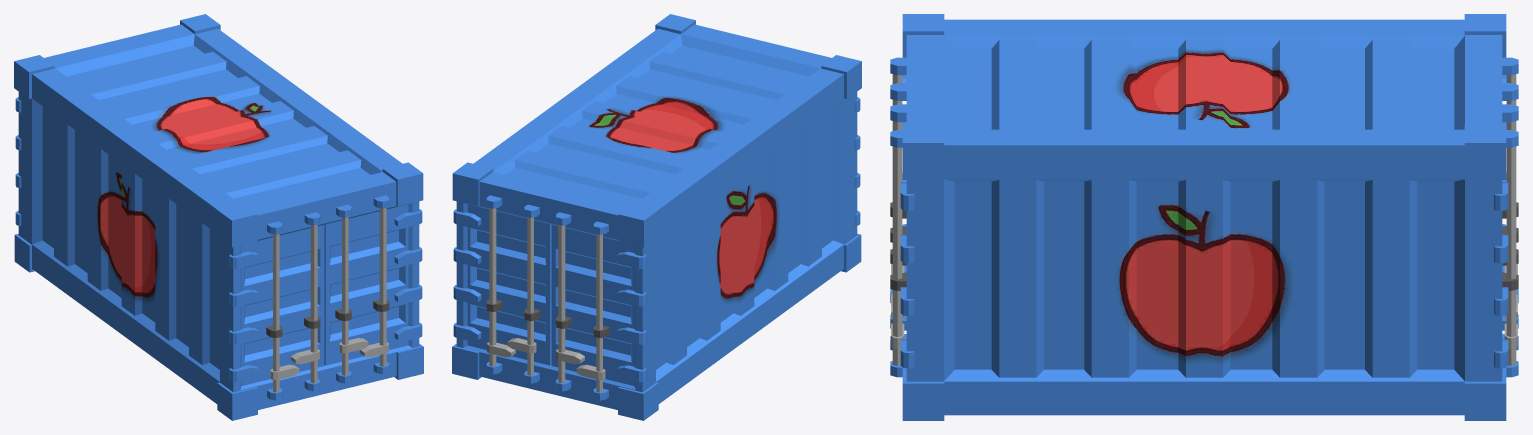
3 views of the same model, side by side, from view 1: azimuth 30°, elevation 25°; view 2: azimuth 150°, elevation 25°; view 3: azimuth 270°, elevation 25° (orthographic). The views are drawn at different scales.
Parts seen in each view (by area): view 1: BlueContainer; view 2: BlueContainer; view 3: BlueContainer.
Boxes of the visible parts, <box> form: BlueContainer: <box>14,14,423,420</box>; BlueContainer: <box>452,14,861,420</box>; BlueContainer: <box>890,14,1518,420</box>.
Bounding box in the file's own units: 0.1032 × 0.1032 × 0.2111.
1 material, 1 textured.
